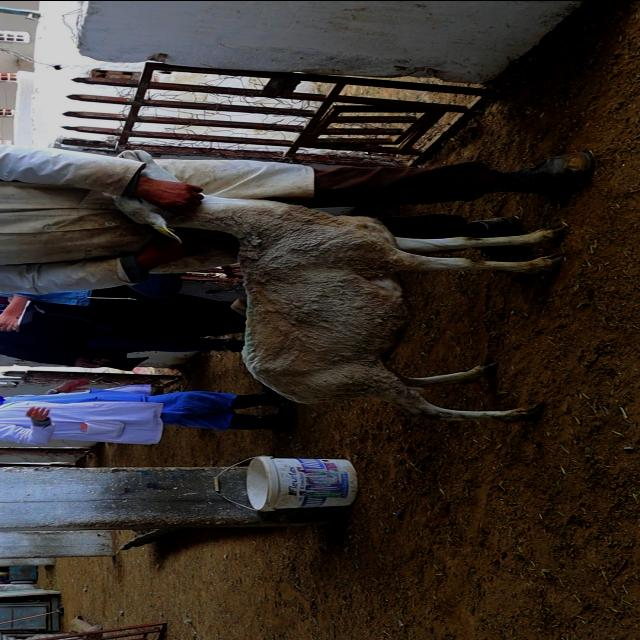Score_1: (107, 191, 564, 421)
